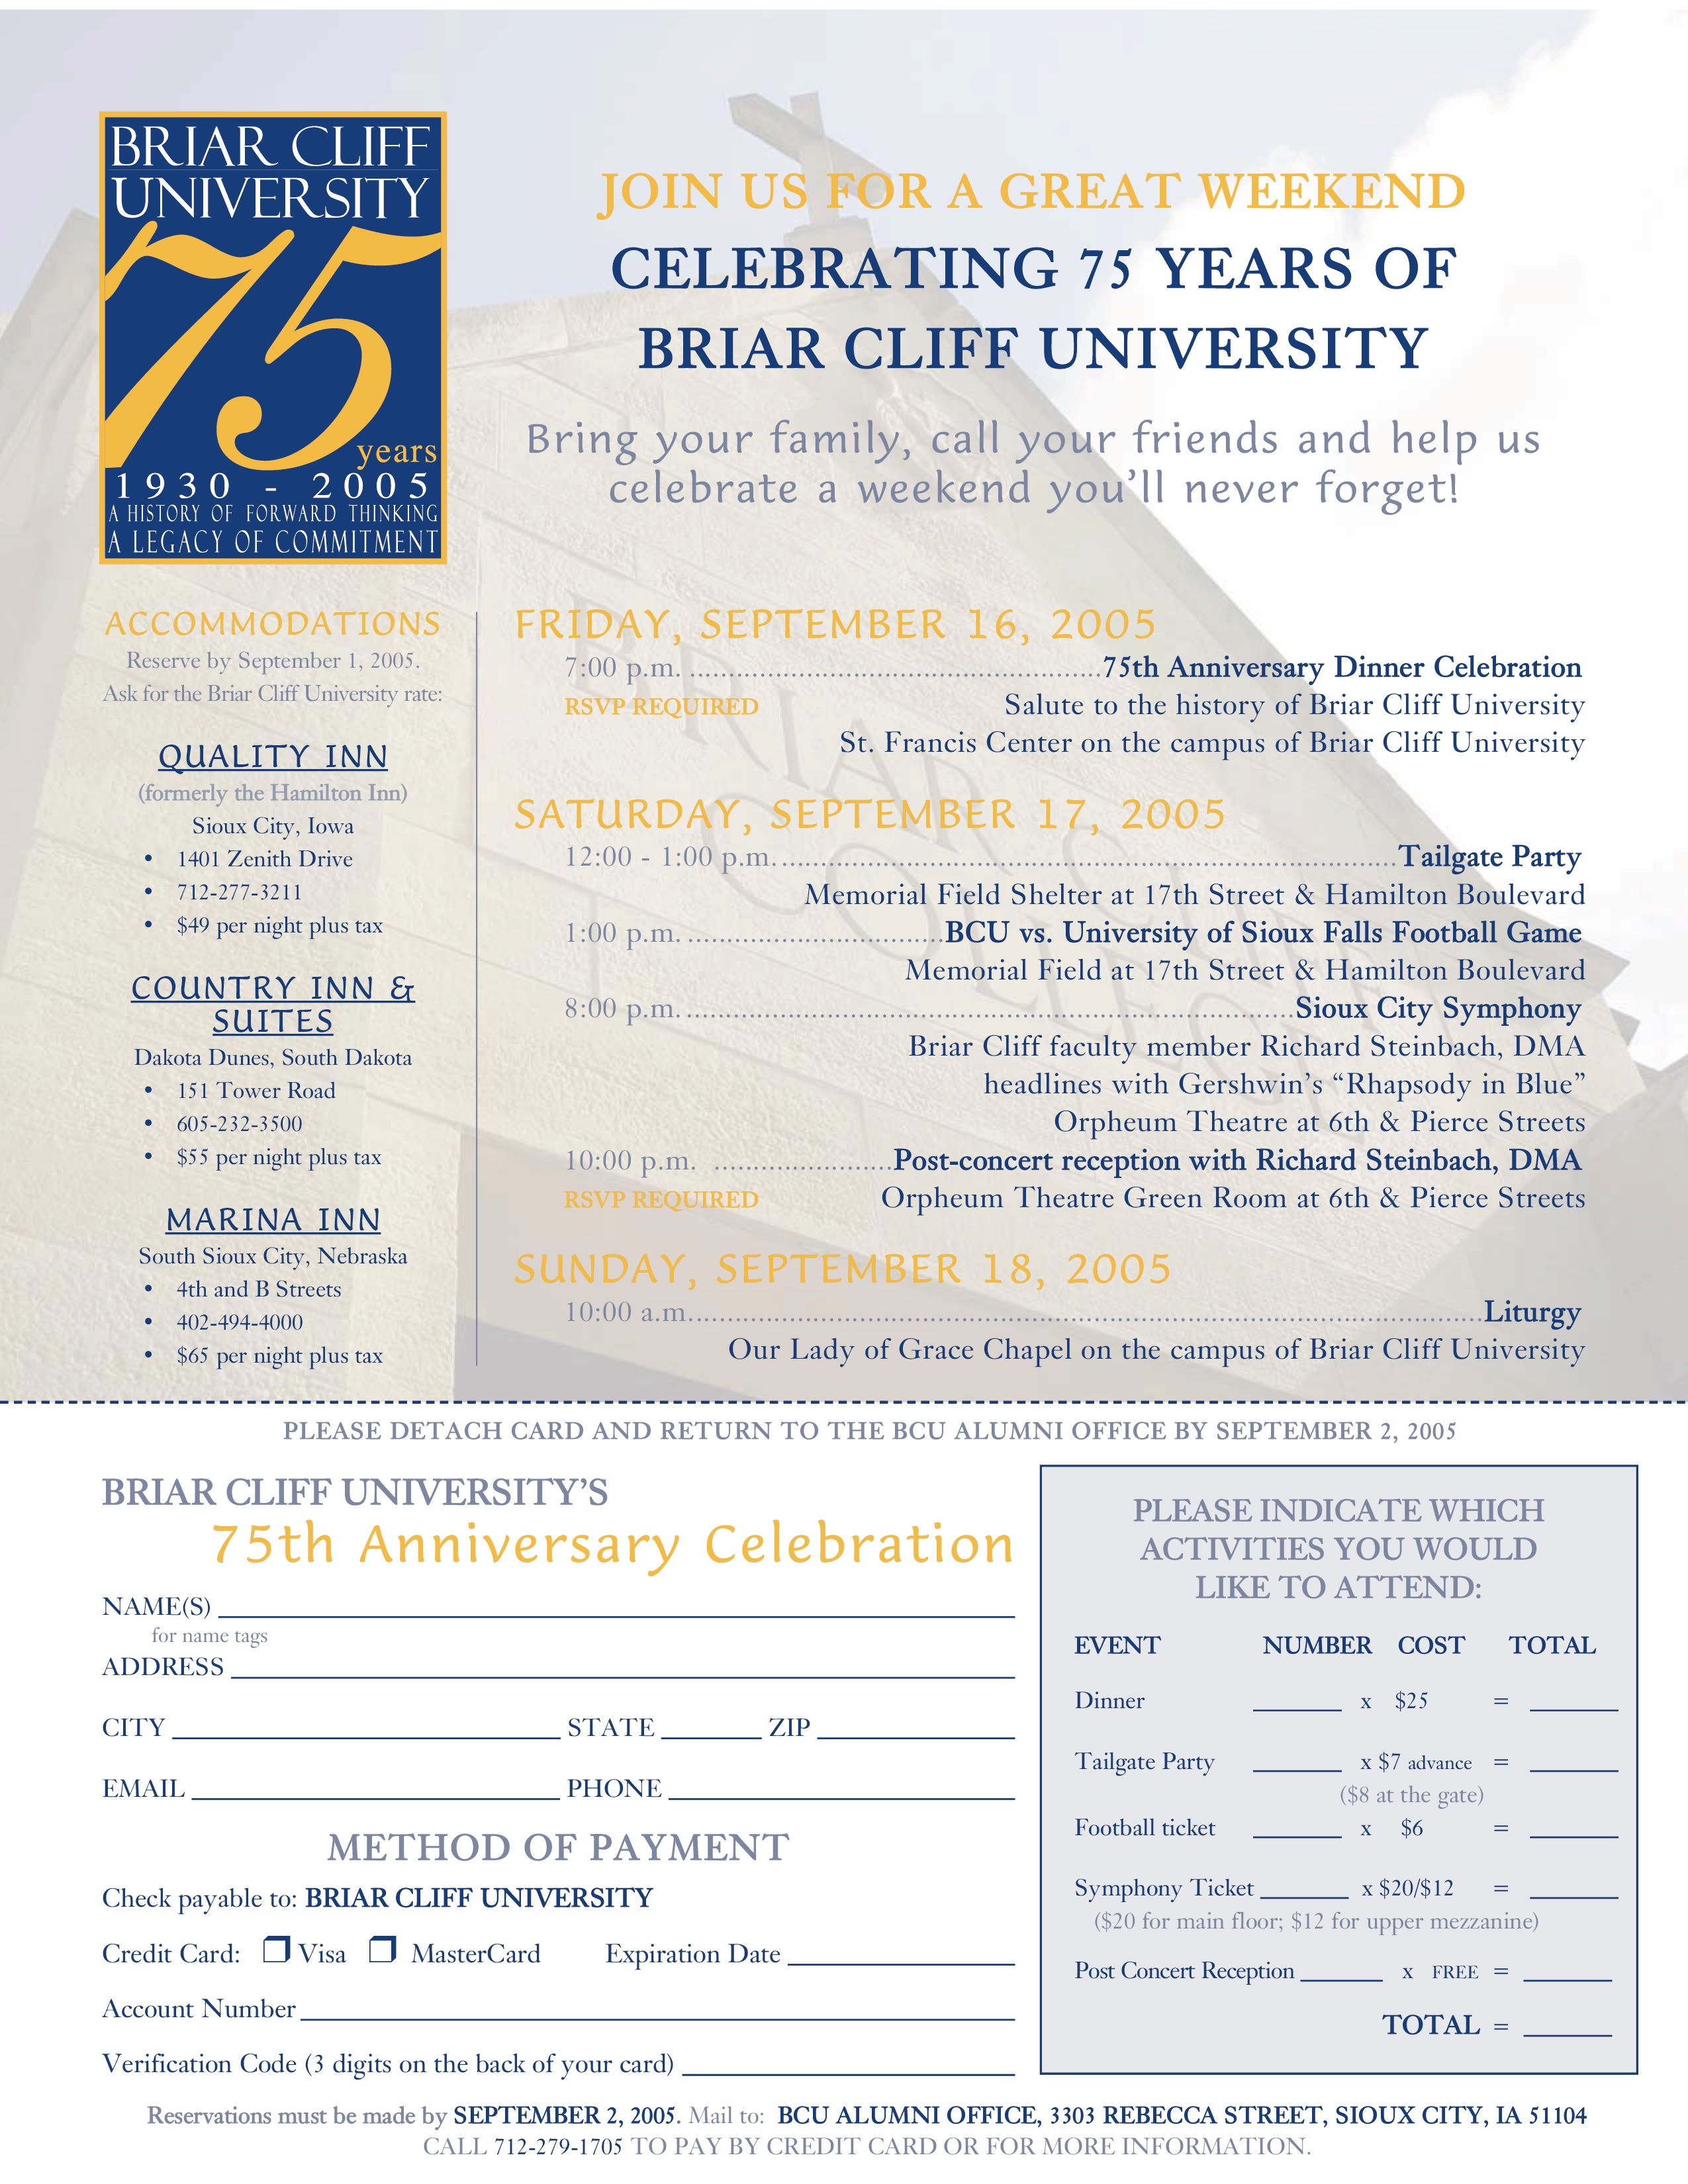figure: (110, 96, 447, 573)
list: (137, 1041, 406, 1189), (115, 807, 397, 945), (137, 1239, 420, 1369)
section: (619, 238, 1481, 379), (191, 1507, 1018, 1583), (582, 165, 1465, 225), (1129, 1503, 1560, 1603), (106, 1461, 615, 1523), (324, 1821, 826, 1877), (119, 961, 424, 1044), (142, 716, 417, 792), (142, 1197, 394, 1243)
table: (520, 585, 1603, 1388), (1064, 1622, 1633, 2048)
text: (509, 420, 1566, 539)
